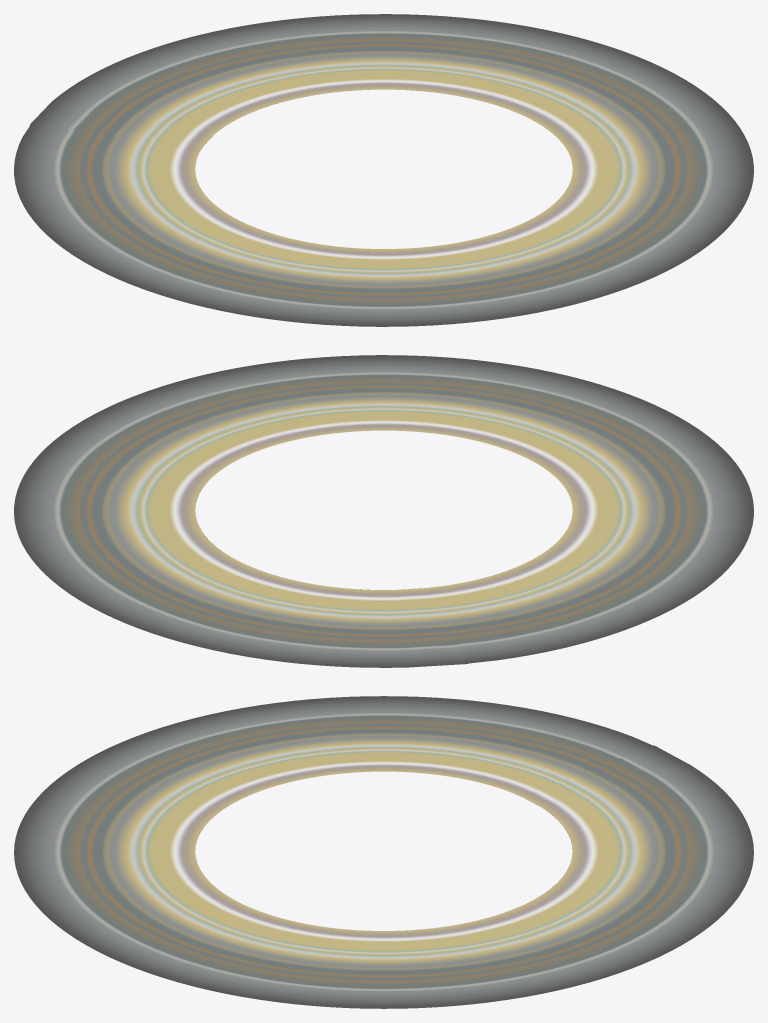
File: SRing.obj
The picture shows the model from 3 angles, top to bottom: view 1: azimuth 30°, elevation 25°; view 2: azimuth 150°, elevation 25°; view 3: azimuth 270°, elevation 25°; orthographic projection.
Parts seen in each view (by area): view 1: Sphere; view 2: Sphere; view 3: Sphere.
Part boxes in pixels (bbox=[...]): Sphere: bbox=[14, 14, 753, 326]; Sphere: bbox=[14, 355, 753, 667]; Sphere: bbox=[14, 696, 753, 1008].
Bounding box in the file's own units: 4.93 × 0.00895 × 4.93.
